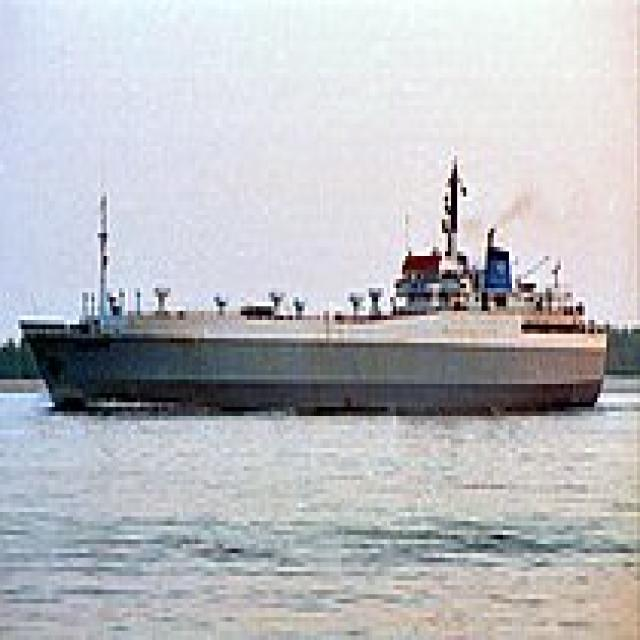Carrier: (12, 146, 607, 412)
